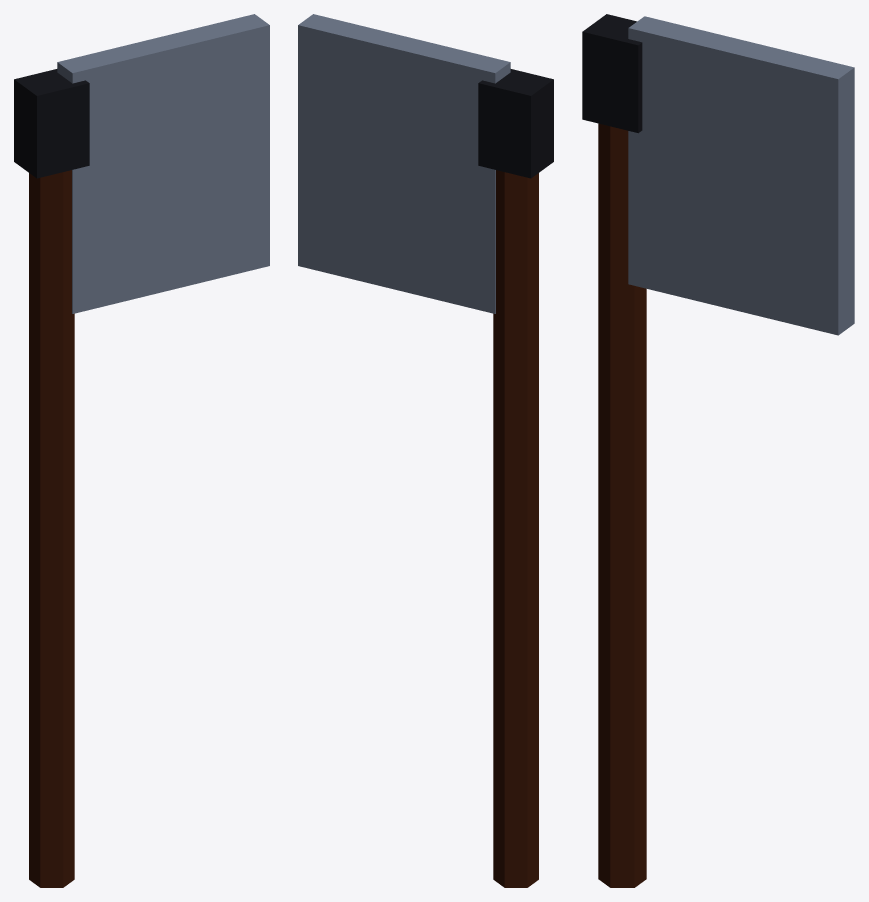
Rendered from battle_axe.obj.
3 renders of one model, left to right at view 1: azimuth 30°, elevation 25°; view 2: azimuth 150°, elevation 25°; view 3: azimuth 330°, elevation 25°, orthographic. The views are drawn at different scales.
Parts seen in each view (by area): view 1: battle_axe; view 2: battle_axe; view 3: battle_axe.
Part boxes in pixels (x1,y1,x2,y2): battle_axe: (14, 14, 269, 887); battle_axe: (298, 14, 553, 887); battle_axe: (582, 14, 854, 887).
Bounding box in the file's own units: 0.36 × 1.17 × 0.06.
